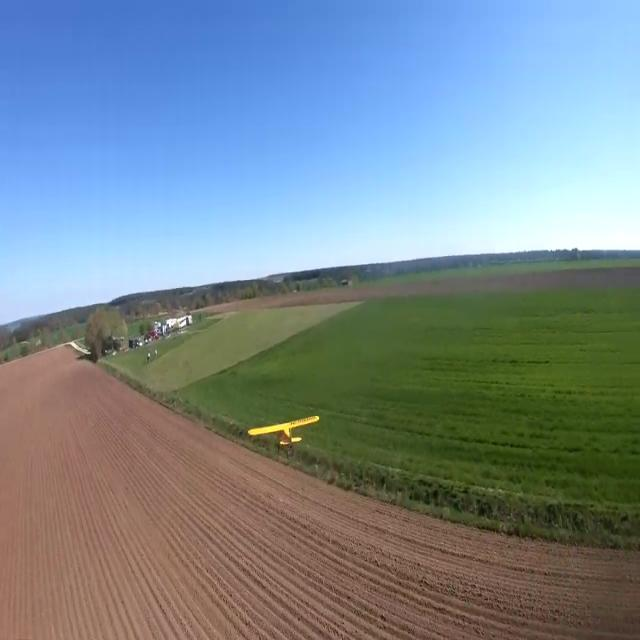iha: (284, 415, 286, 449)
